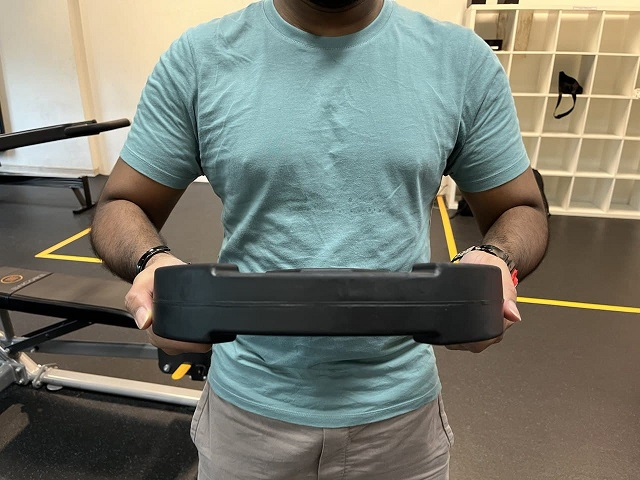weights: (150, 264, 504, 345)
